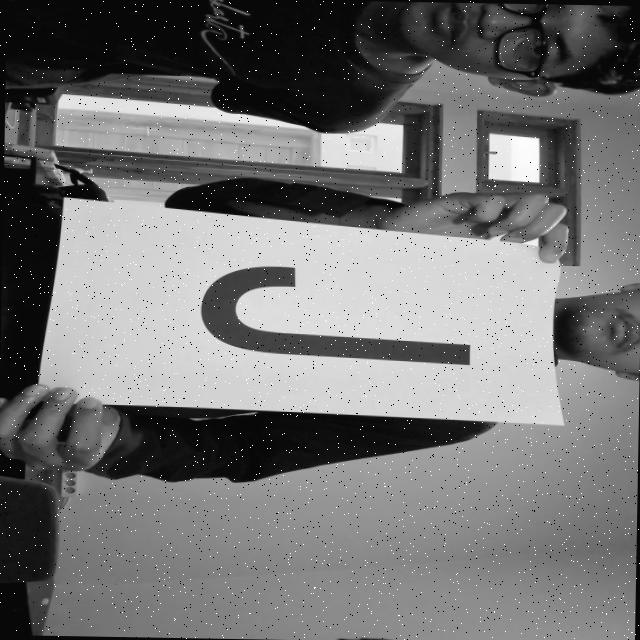j: (176, 234, 517, 404)
